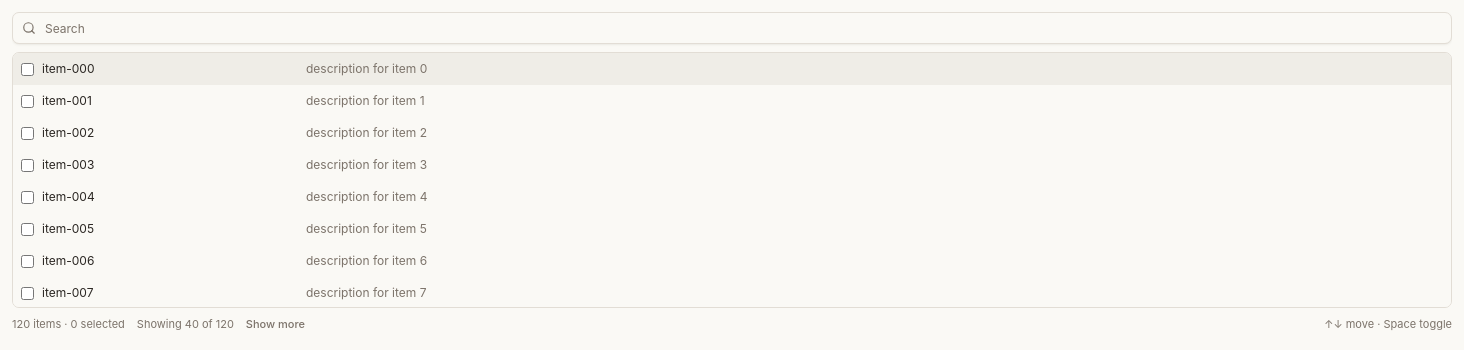
EntityPicker sizing › never hides the tail behind a silent cap
The width and height of the screenshot is (1464, 350).
Check: the message reads "Showing 40 of 120", box [137,317,234,331]
Click the button "Show more" at (275, 324), box [246,316,305,332]
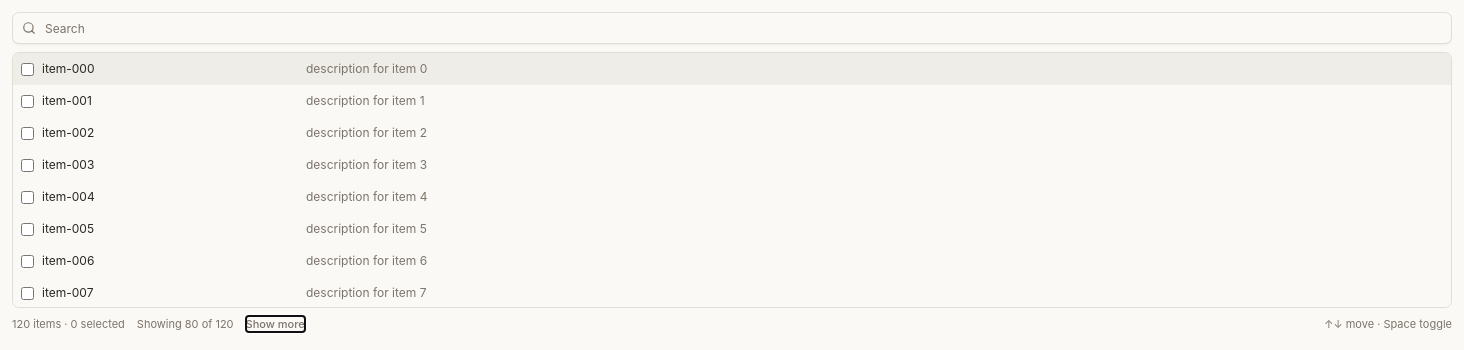
Click the button "Show more" at (275, 324), box [246,316,305,332]
(page scrolled)
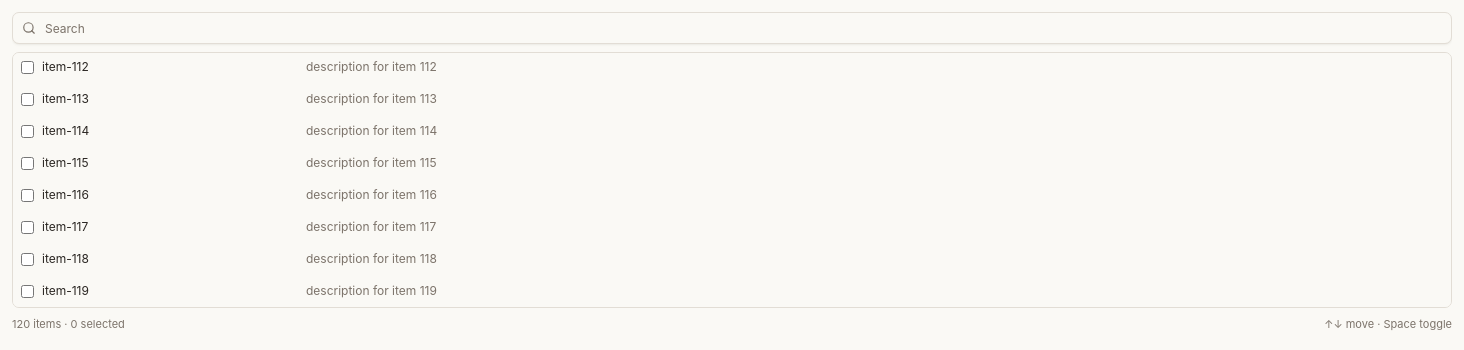
Check: the text "item-119" is shown, box [42,283,89,298]
Check: the message "Showing 80 of 120" is gone
